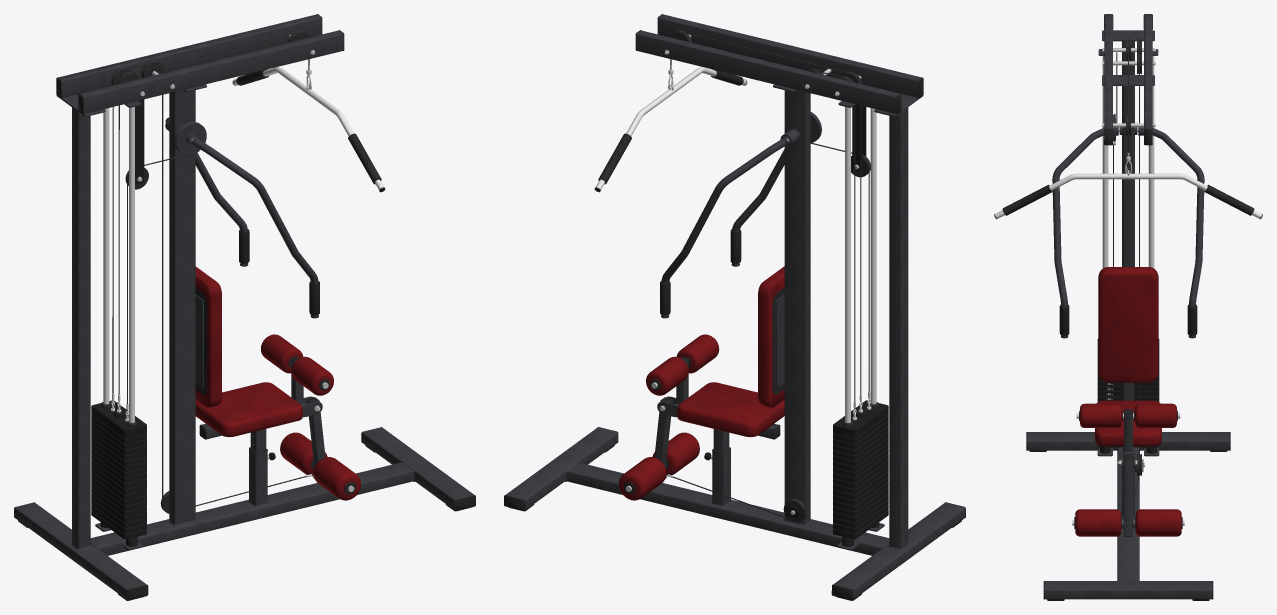
Rendered from real_multigym.glb.
The picture shows the model from 3 angles, left to right: view 1: azimuth 30°, elevation 25°; view 2: azimuth 150°, elevation 25°; view 3: azimuth 270°, elevation 25°; orthographic projection. The views are drawn at different scales.
Visible parts, largest first — view 1: Backrest mounting plate, Backrest pad (red vinyl), Head plate, Cable eye bolts, Lat pulldown cable, Lat bar grip (foam), Base End cap, Head plate bushings (nylon), Low bottom Pulley bracket side plate; view 2: Backrest mounting plate, Backrest pad (red vinyl), Head plate, Cable eye bolts, Lat pulldown cable, Lat bar grip (foam), Base End cap, Low bottom Pulley bracket side plate, Head plate bushings (nylon); view 3: Backrest mounting plate, Backrest pad (red vinyl), Cable eye bolts, Lat bar grip (foam), Head plate, Base End cap, Cable ferrule, Lat pulldown cable, Head plate bushings (nylon).
Boxes of the visible parts, <box> form: Backrest mounting plate: <box>14,14,474,599</box>; Backrest pad (red vinyl): <box>195,266,361,500</box>; Head plate: <box>91,400,146,539</box>; Cable eye bolts: <box>103,67,384,422</box>; Lat pulldown cable: <box>112,31,313,509</box>; Lat bar grip (foam): <box>236,69,381,315</box>; Base End cap: <box>14,14,475,600</box>; Head plate bushings (nylon): <box>101,30,309,513</box>; Low bottom Pulley bracket side plate: <box>135,99,275,505</box>; Backrest mounting plate: <box>505,14,965,599</box>; Backrest pad (red vinyl): <box>619,266,784,500</box>; Head plate: <box>833,400,888,539</box>; Cable eye bolts: <box>596,67,876,422</box>; Lat pulldown cable: <box>666,31,869,518</box>; Lat bar grip (foam): <box>598,69,743,315</box>; Base End cap: <box>504,14,965,600</box>; Low bottom Pulley bracket side plate: <box>704,104,866,517</box>; Head plate bushings (nylon): <box>670,30,878,522</box>; Backrest mounting plate: <box>1027,14,1229,599</box>; Backrest pad (red vinyl): <box>1075,267,1181,536</box>; Cable eye bolts: <box>995,56,1261,268</box>; Lat bar grip (foam): <box>1002,184,1254,335</box>; Head plate: <box>1097,339,1159,447</box>; Base End cap: <box>994,14,1262,599</box>; Cable ferrule: <box>1072,48,1184,525</box>; Lat pulldown cable: <box>1113,39,1139,497</box>; Head plate bushings (nylon): <box>1115,39,1141,475</box>.
Bounding box in the file's own units: 1.7 × 2.15 × 1.22.
16 materials, 8 textured.
